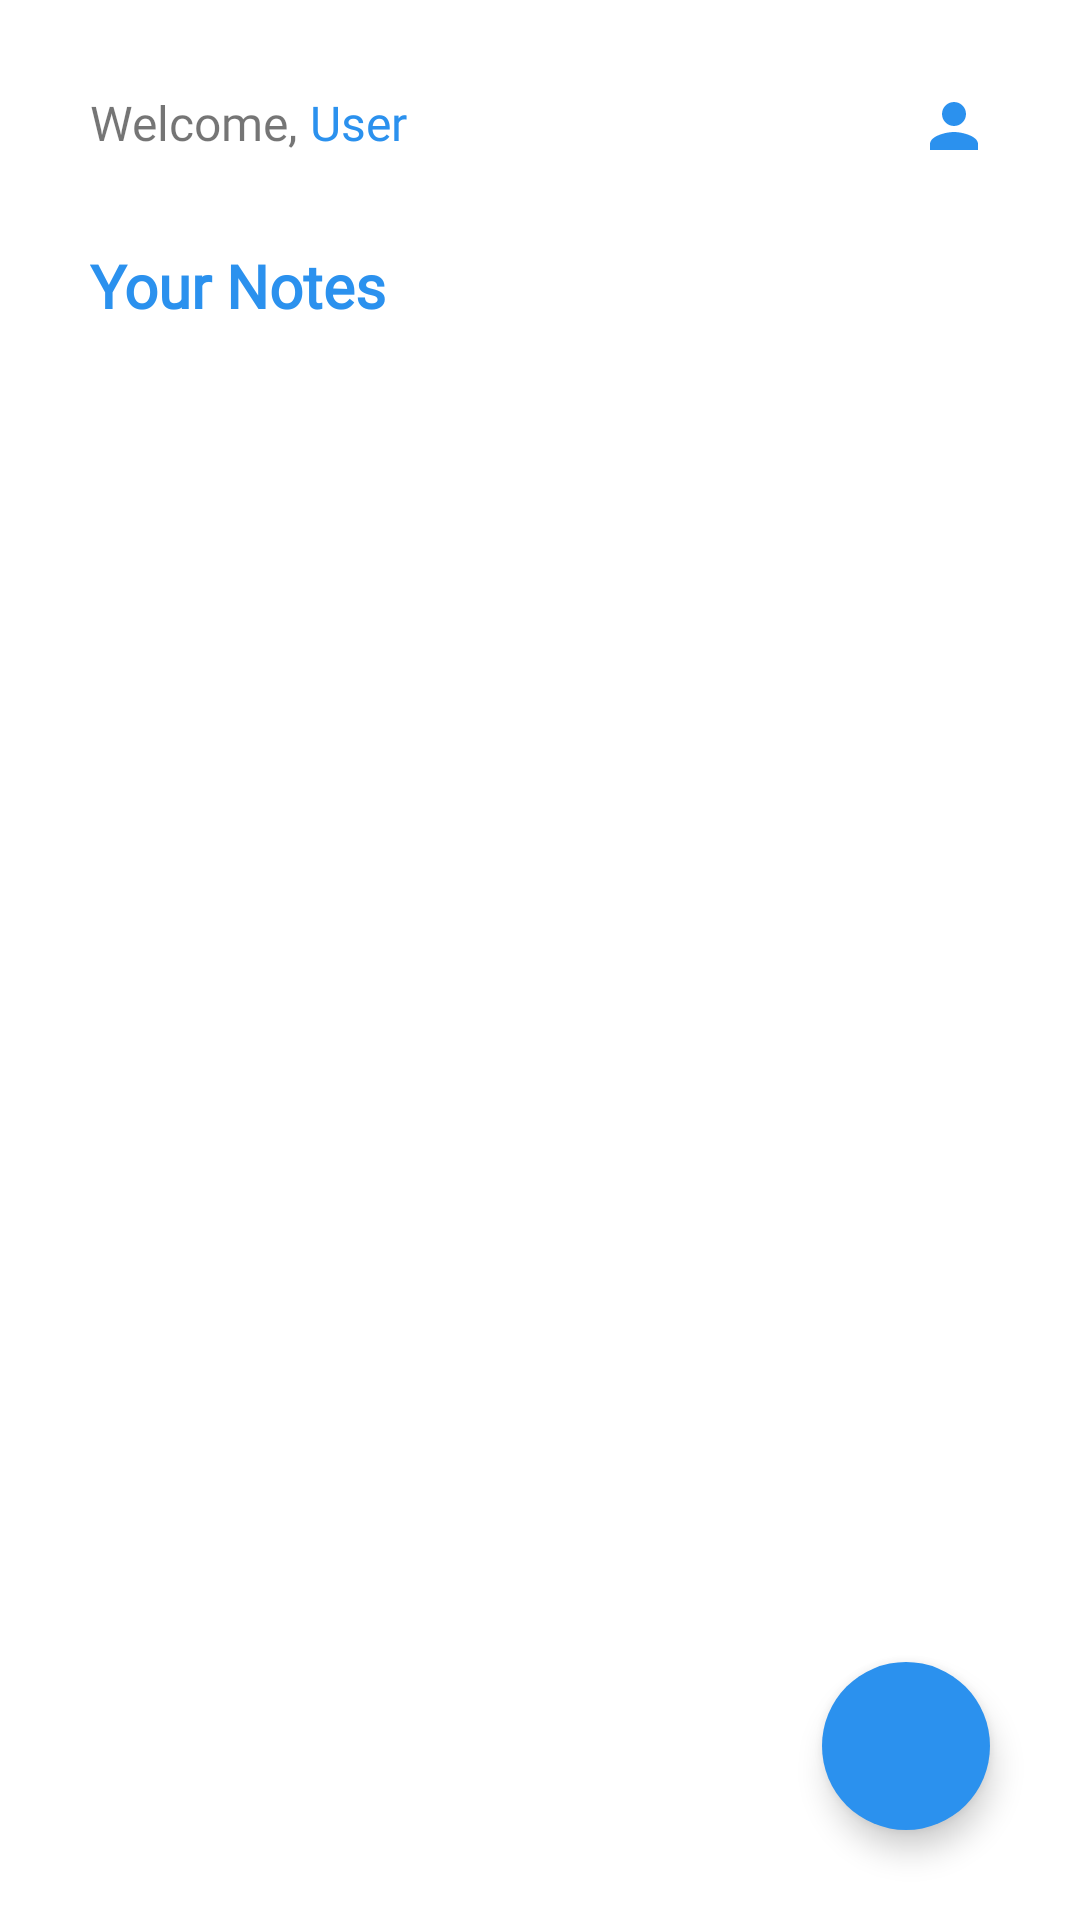

Point at icon controls on the screen. Image size 1080×1920, points as (x=x, y=y).
user: (x=954, y=126)
